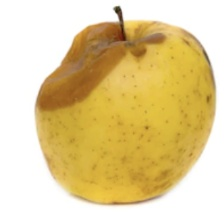apple: (0, 23, 199, 213)
